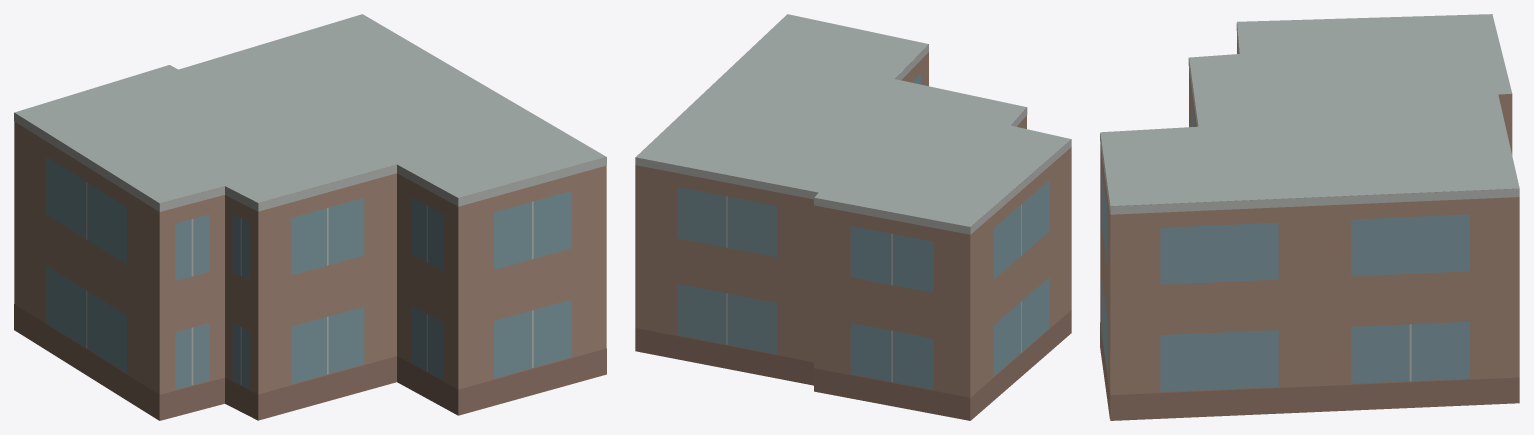
The model's file is survey-upis-32948976.glb.
3 renders of one model, left to right at view 1: azimuth 30°, elevation 25°; view 2: azimuth 150°, elevation 25°; view 3: azimuth 270°, elevation 25°, orthographic. The views are drawn at different scales.
Visible parts, largest first — view 1: survey-upis-32948976.tmp; view 2: survey-upis-32948976.tmp; view 3: survey-upis-32948976.tmp.
Part boxes in pixels (left/top/right/bottom): survey-upis-32948976.tmp: left=14, top=14, right=606, bottom=420; survey-upis-32948976.tmp: left=635, top=14, right=1071, bottom=420; survey-upis-32948976.tmp: left=1100, top=14, right=1519, bottom=420.
Size of the model in its own units: 11.72 by 6.1 by 10.81.
